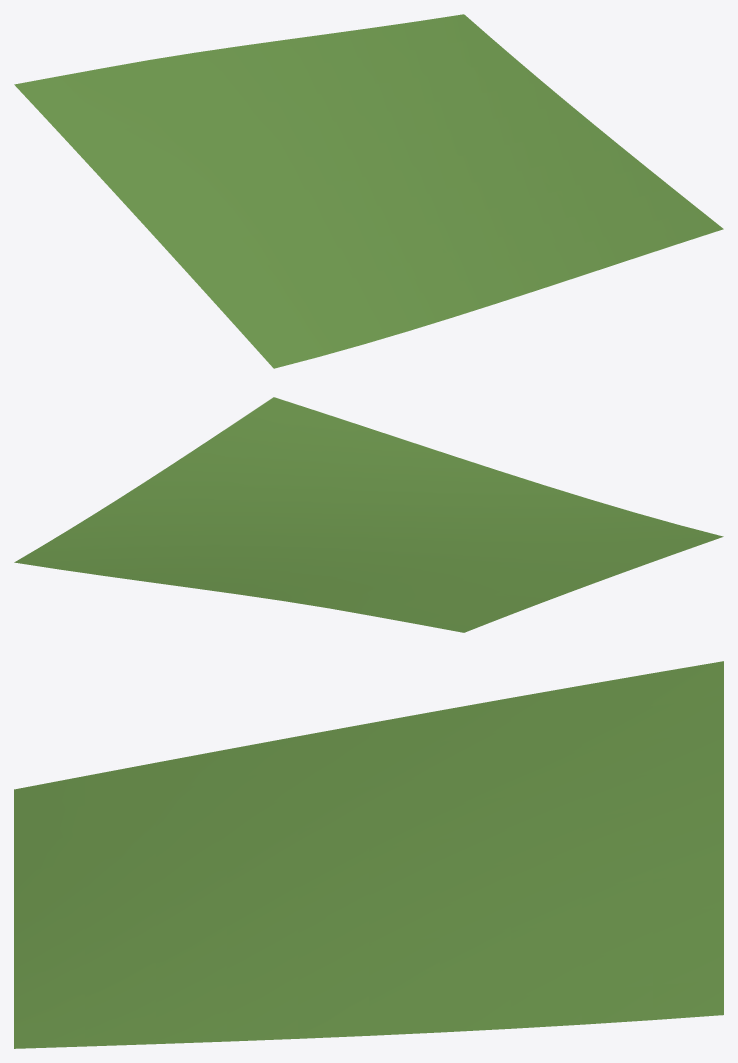
File: terrain-16-6.gltf
3 renders of one model, top to bottom at view 1: azimuth 30°, elevation 25°; view 2: azimuth 150°, elevation 25°; view 3: azimuth 270°, elevation 25°, orthographic. The views are drawn at different scales.
Size of the model in its own units: 50 by 9.98 by 50.
